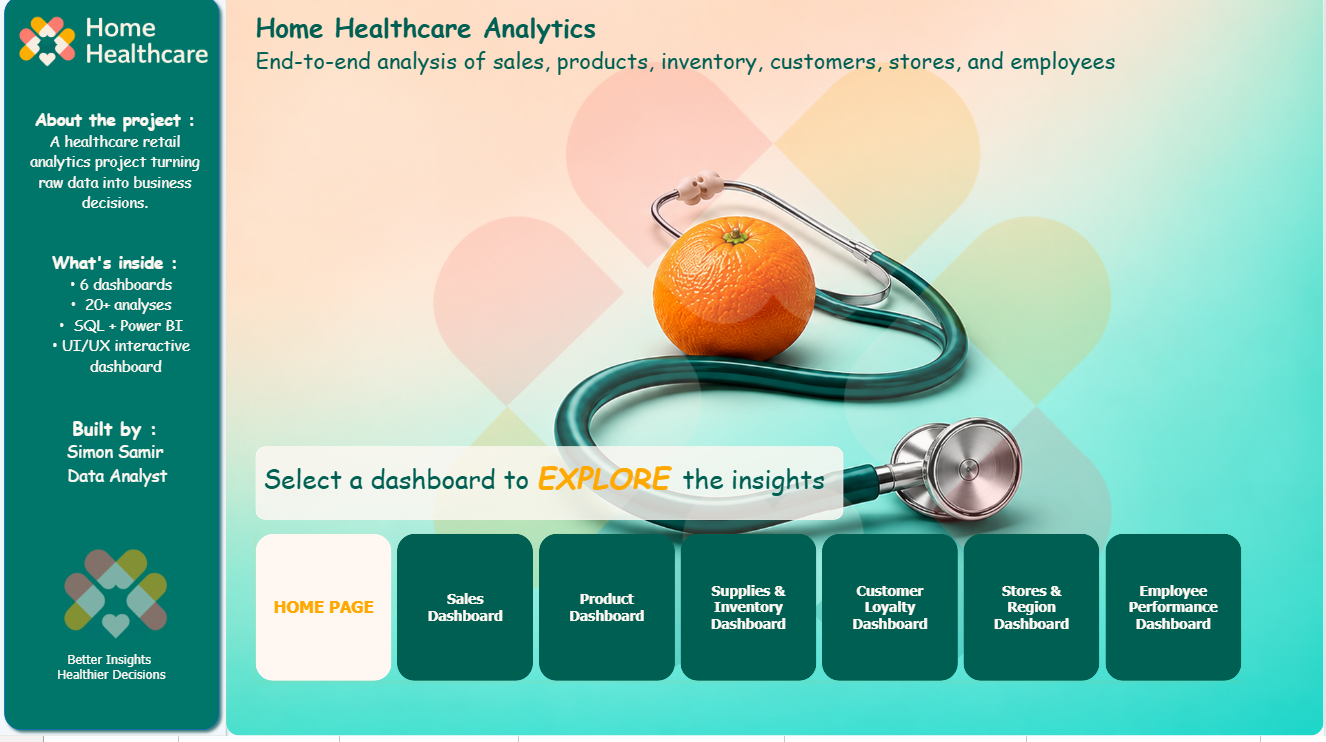

The page's visual inventory and layout, read from the dashboard file:
{"tool":"powerbi","page":{"name":"HOME PAGE","canvas":[1920,1080],"ordinal":0},"visuals":[{"type":"group","id":"g1","title":"Group 1","box":[0,0,329.4,1080.4],"z":0},{"type":"image","title":"Image Cover","box":[329.4,0,1590.7,1080.4],"z":1000},{"type":"image","title":"Image Logo Pattern ","box":[329.4,0,1590.7,1080.4],"z":2000},{"type":"pageNavigator","box":[372.8,787.2,1429.6,213.5],"z":3000},{"type":"textbox","title":"Text box 1","box":[372.8,27.1,1284.9,208.1],"z":4000},{"type":"shape","title":"Shape text","box":[373.2,660.5,851.3,106.8],"z":5500,"group":"g2"},{"type":"group","id":"g2","title":"Group 2","box":[373.2,660.5,1198,106.8],"z":6000},{"type":"textbox","title":"Text box 1","box":[373.2,675.8,1198,85.1],"z":6000,"group":"g2"},{"type":"shape","box":[0,0,329.4,1080.4],"z":10000,"group":"g1"},{"type":"image","box":[48.8,795.2,243.9,162.8],"z":11000,"group":"g3"},{"type":"image","box":[9.6,0,311.4,148.4],"z":12000,"group":"g1"},{"type":"textbox","title":"Text box 2","box":[29,170.1,280.5,628],"z":13501,"group":"g4"},{"type":"group","id":"g3","title":"Group 5","box":[0,170.1,328.2,888.9],"z":14000,"group":"g1"},{"type":"textbox","box":[0,957.6,328.2,101.4],"z":14001,"group":"g4"},{"type":"group","id":"g4","title":"Group 4","box":[0,170.1,328.2,888.9],"z":15000,"group":"g3"}]}

Visuals, with their boxes in screenshot pixels (x1, y1, x2, y2), scaled from the page's 1920x1080 canvas onto the 1326x742 screenshot:
"Group 1" group: <box>0,0,227,741</box>
"Image Cover" image: <box>227,0,1325,741</box>
"Image Logo Pattern " image: <box>227,0,1325,741</box>
pageNavigator: <box>257,541,1245,688</box>
"Text box 1" textbox: <box>257,19,1145,162</box>
"Shape text" shape: <box>258,454,846,527</box>
"Group 2" group: <box>258,454,1085,527</box>
"Text box 1" textbox: <box>258,464,1085,523</box>
shape: <box>0,0,227,741</box>
image: <box>34,546,202,658</box>
image: <box>7,0,222,102</box>
"Text box 2" textbox: <box>20,117,214,548</box>
"Group 5" group: <box>0,117,227,728</box>
textbox: <box>0,658,227,728</box>
"Group 4" group: <box>0,117,227,728</box>
